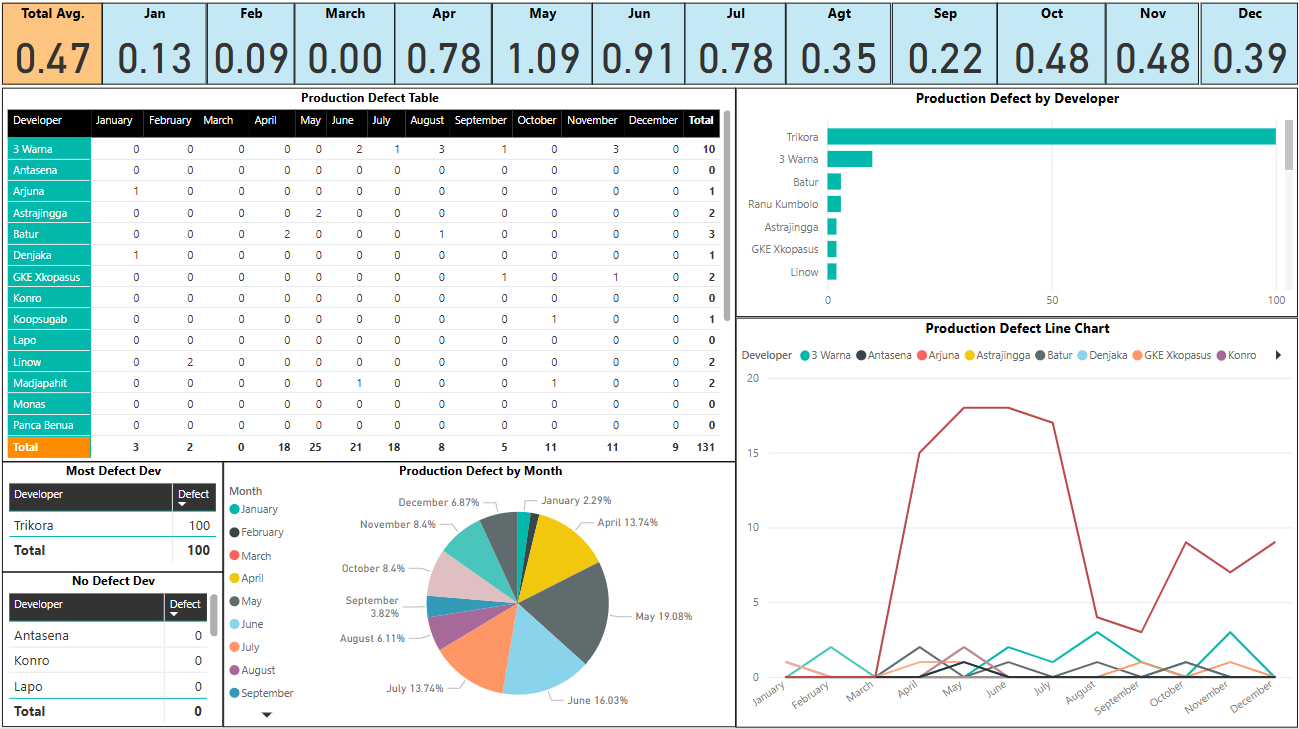

This screenshot's page, from the dashboard's own definition file:
{"tool":"powerbi","page":{"name":"productionDefect","canvas":[1280,720],"ordinal":2},"visuals":[{"type":"pivotTable","title":"Production Defect Table","fields":{"Rows":["Production.Developer"],"Values":["Sum(Production.Defect)"],"Columns":["Production.Month"]},"box":[0,87.9,725.1,369.4],"z":0},{"type":"lineChart","title":"Production Defect Line Chart","fields":{"Category":["Production.Month"],"Y":["Sum(Production.Defect)"],"Series":["Production.Developer"]},"box":[725.1,314.5,554.9,405.1],"z":1000},{"type":"clusteredBarChart","title":"Production Defect by Developer","fields":{"Y":["Sum(Production.Defect)"],"Category":["Production.Developer"]},"box":[725.1,87.9,554.9,226.6],"z":2000},{"type":"pieChart","title":"Production Defect by Month","fields":{"Category":["Production.Month"],"Y":["Sum(Production.Defect)"]},"box":[218.4,457.3,506.8,262.3],"z":3000},{"type":"card","title":"Total Avg.","fields":{"Values":["Avg(Production.Defect)"]},"box":[0,4.1,98.9,81],"z":4000},{"type":"card","title":"Jan","fields":{"Values":["Avg(Production.Defect)"]},"box":[98.9,4.1,103,81],"z":5000},{"type":"card","title":"Feb","fields":{"Values":["Avg(Production.Defect)"]},"box":[201.9,4.1,86.5,81],"z":6000},{"type":"card","title":"March","fields":{"Values":["Avg(Production.Defect)"]},"box":[288.4,4.1,98.9,81],"z":7000},{"type":"card","title":"Apr","fields":{"Values":["Avg(Production.Defect)"]},"box":[387.3,4.1,96.1,81],"z":8000},{"type":"card","title":"May","fields":{"Values":["Avg(Production.Defect)"]},"box":[483.4,4.1,98.9,81],"z":9000},{"type":"card","title":"Jun","fields":{"Values":["Avg(Production.Defect)"]},"box":[582.3,4.1,92,81],"z":10000},{"type":"card","title":"Jul","fields":{"Values":["Avg(Production.Defect)"]},"box":[674.3,4.1,100.3,81],"z":11000},{"type":"card","title":"Agt","fields":{"Values":["Avg(Production.Defect)"]},"box":[774.6,4.1,104.4,81],"z":12000},{"type":"card","title":"Sep","fields":{"Values":["Avg(Production.Defect)"]},"box":[879,4.1,104.4,81],"z":13000},{"type":"card","title":"Oct","fields":{"Values":["Avg(Production.Defect)"]},"box":[983.4,4.1,107.1,81],"z":14000},{"type":"card","title":"Nov","fields":{"Values":["Avg(Production.Defect)"]},"box":[1090.5,4.1,92,81],"z":15000},{"type":"card","title":"Dec","fields":{"Values":["Avg(Production.Defect)"]},"box":[1183.9,4.1,96.1,81],"z":16000},{"type":"tableEx","title":"Most Defect Dev","fields":{"Values":["Production.Developer","Sum(Production.Defect)"]},"box":[0,457.3,218.4,109.9],"z":17000},{"type":"tableEx","title":"No Defect Dev","fields":{"Values":["Production.Developer","Sum(Production.Defect)"]},"box":[0,565.8,218.4,153.8],"z":18000}]}

Visuals, with their boxes in screenshot pixels (x1, y1, x2, y2), scaled from the page's 1280x720 canvas onto the 1299x729 screenshot:
"Production Defect Table" pivotTable: BBox(0, 89, 736, 463)
"Production Defect Line Chart" lineChart: BBox(736, 318, 1298, 728)
"Production Defect by Developer" clusteredBarChart: BBox(736, 89, 1298, 318)
"Production Defect by Month" pieChart: BBox(222, 463, 736, 728)
"Total Avg." card: BBox(0, 4, 100, 86)
"Jan" card: BBox(100, 4, 205, 86)
"Feb" card: BBox(205, 4, 293, 86)
"March" card: BBox(293, 4, 393, 86)
"Apr" card: BBox(393, 4, 491, 86)
"May" card: BBox(491, 4, 591, 86)
"Jun" card: BBox(591, 4, 684, 86)
"Jul" card: BBox(684, 4, 786, 86)
"Agt" card: BBox(786, 4, 892, 86)
"Sep" card: BBox(892, 4, 998, 86)
"Oct" card: BBox(998, 4, 1107, 86)
"Nov" card: BBox(1107, 4, 1200, 86)
"Dec" card: BBox(1201, 4, 1298, 86)
"Most Defect Dev" tableEx: BBox(0, 463, 222, 574)
"No Defect Dev" tableEx: BBox(0, 573, 222, 728)
